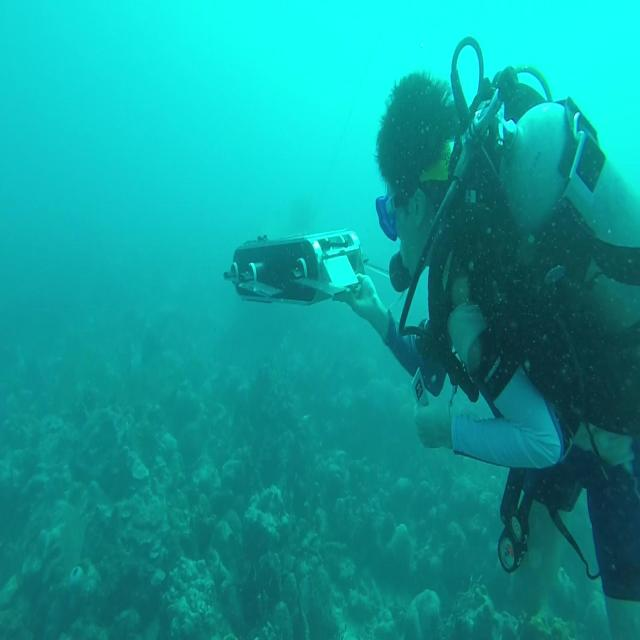human: (334, 48, 639, 635)
